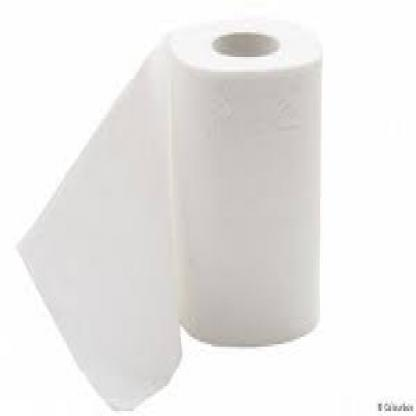tissue: (157, 12, 330, 363)
